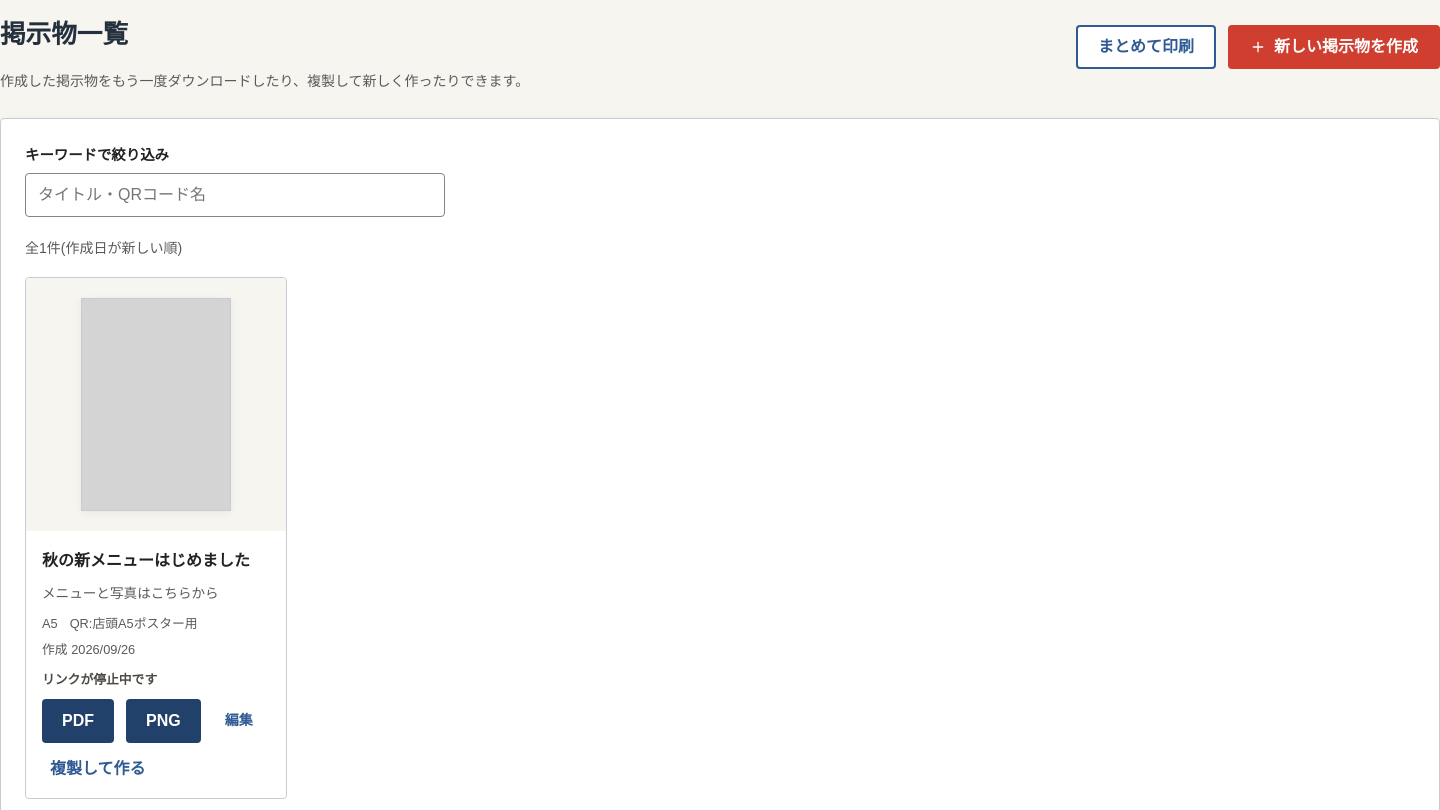
Test case: PosterListPage › リンクが停止中の掲示物は、公開設定を確認する導線つきの確認ダイアログを出す。閉じると書き出さない
Click the button with aria-label "秋の新メニューはじめましたをPNGでダウンロード" at (163, 721), box [126,699,201,743]
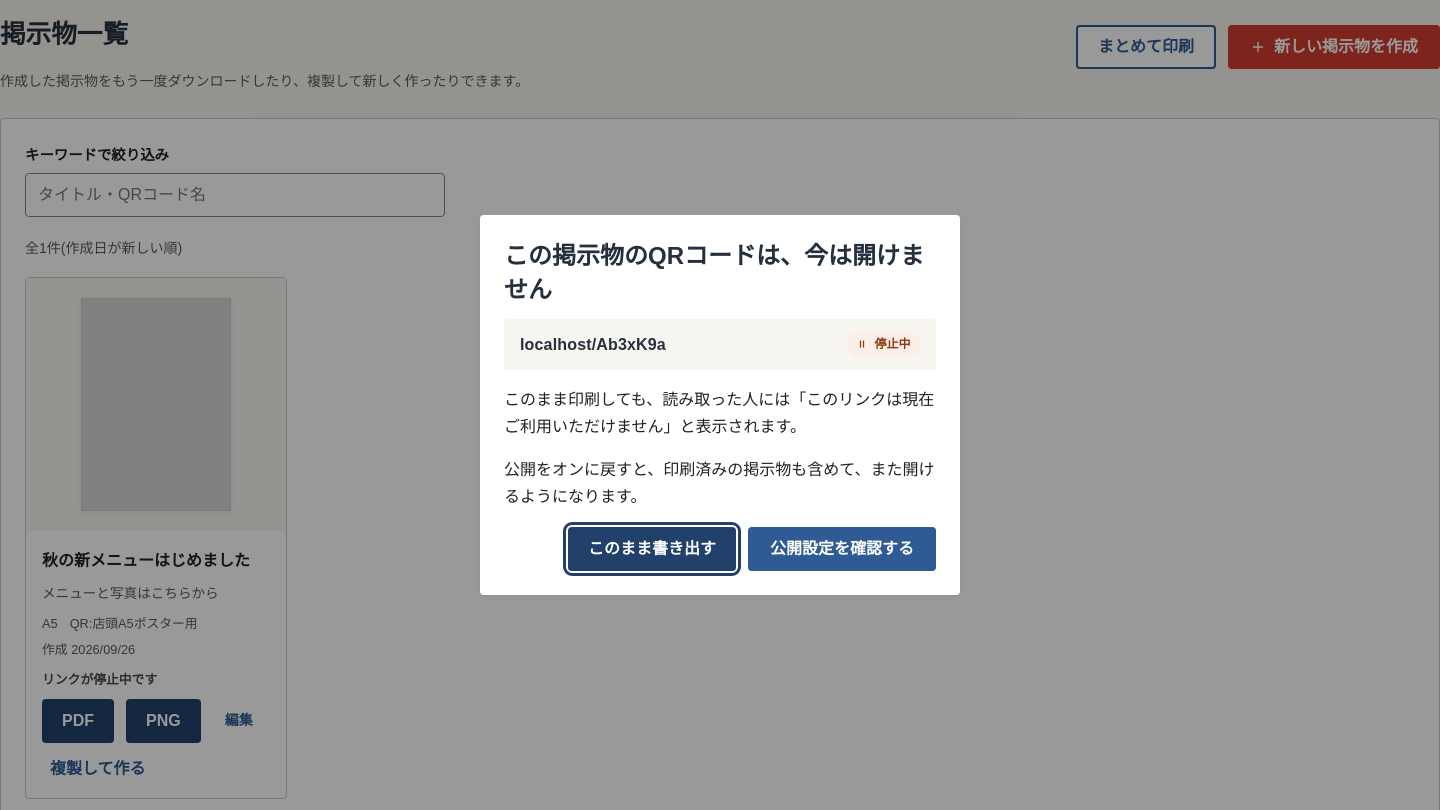
Expected: the link "公開設定を確認する" is shown, [748,527,936,571]
Press Escape
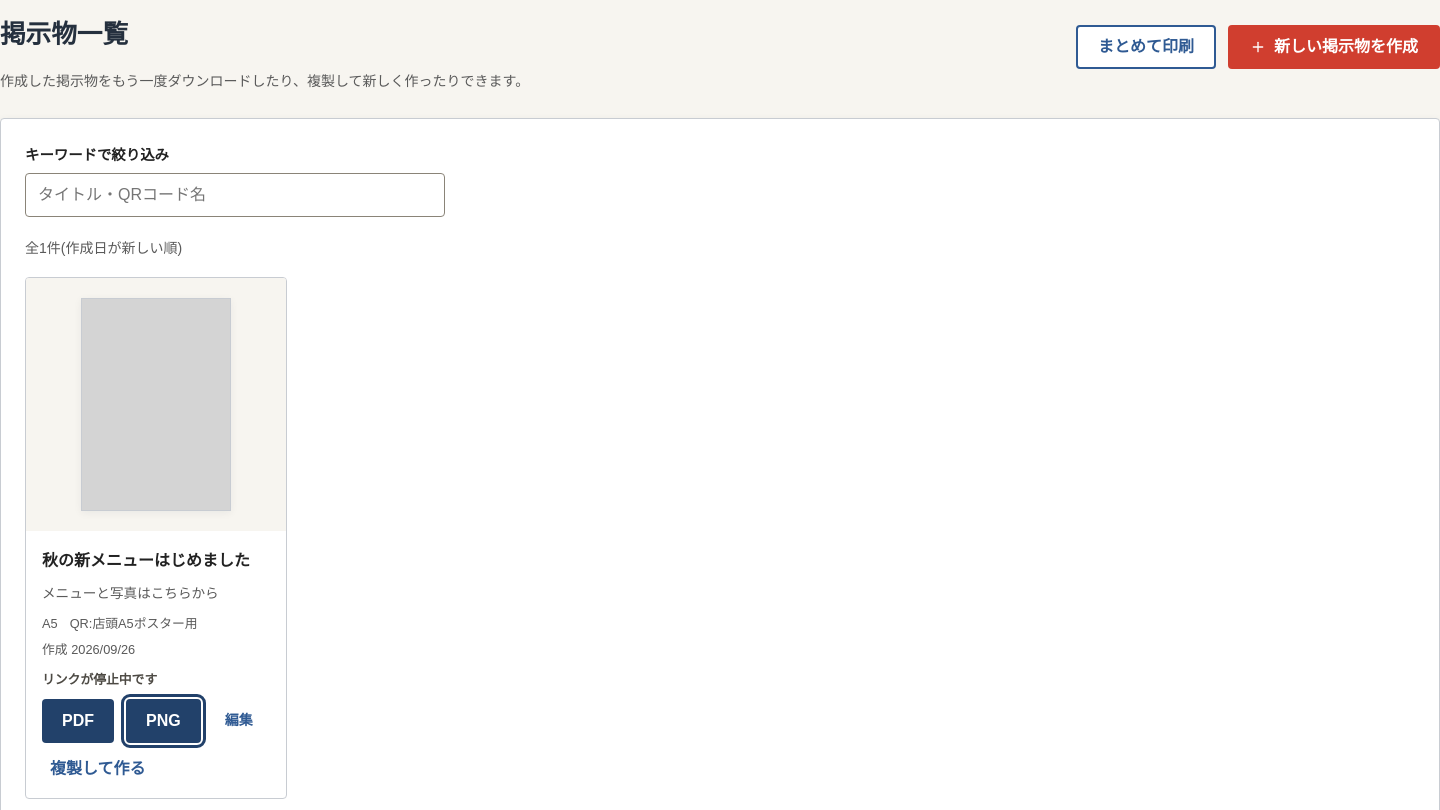
Expected: the dialog is gone
